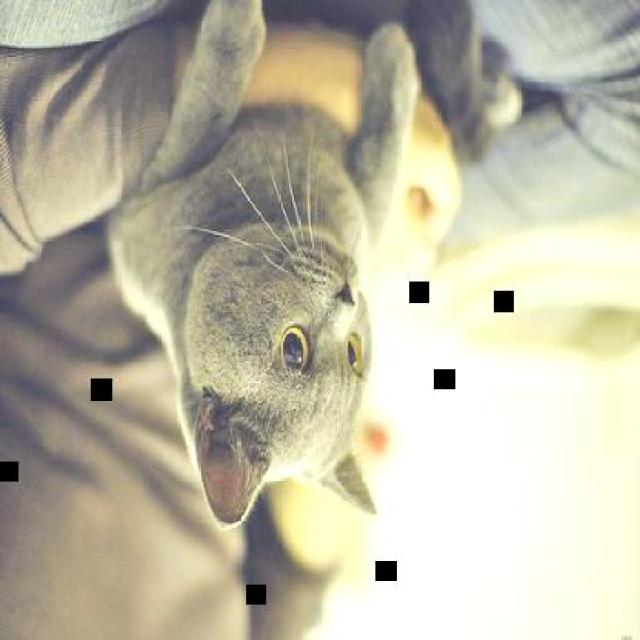cat: (105, 2, 502, 526)
